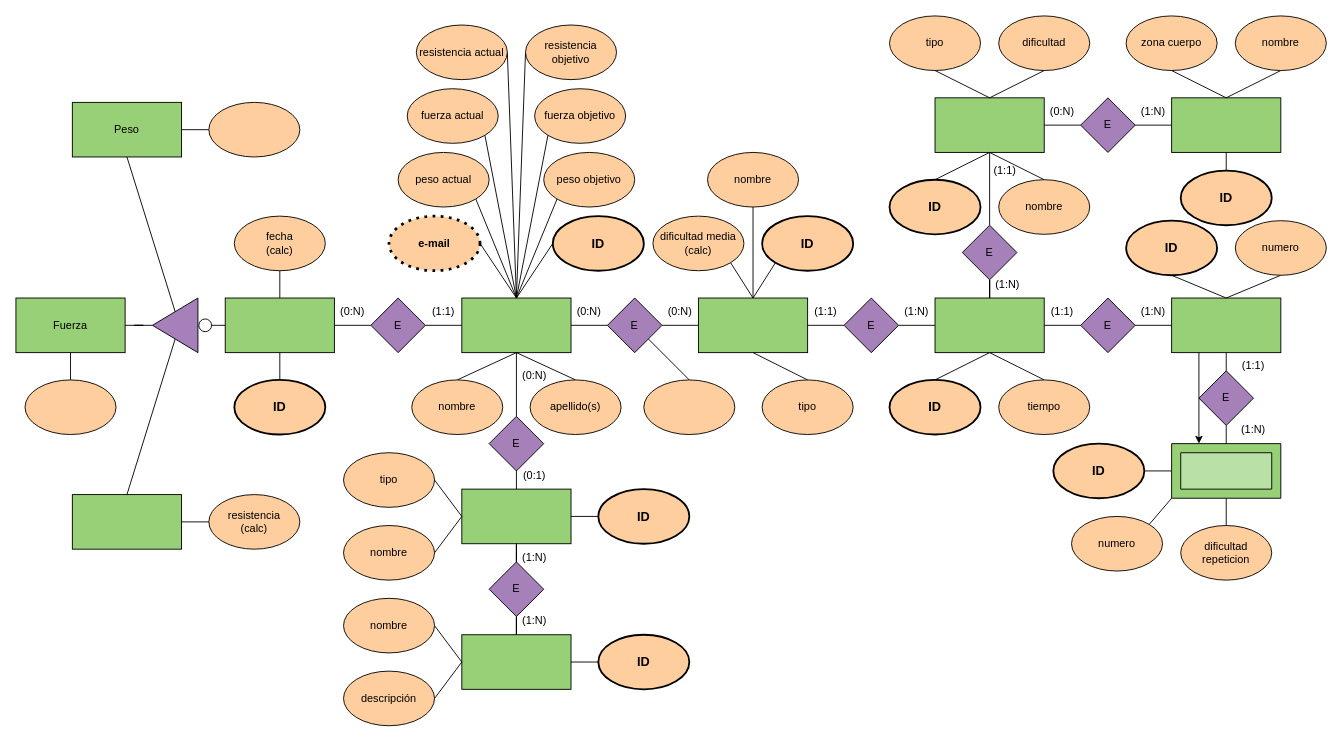
Image size: 1342x742. Some labels were removed from this diagram. Here are the shapes that lost their labels. From the top down, the centre of each, then its label:
At point (254, 129): "peso (calc)".
At point (989, 124): "Ejercicio".
At point (1226, 124): "Musculo".
At point (279, 325): "Registro".
At point (516, 325): "Usuario".
At point (753, 325): "Rutina".
At point (989, 325): "Detalle Rutina".
At point (1226, 325): "Serie".
At point (70, 407): "fuerza (calc)".
At point (689, 407): "fecha".
At point (1226, 470): "Repeticion".
At point (126, 521): "Resistencia".
At point (516, 516): "Dieta".
At point (516, 661): "Receta".
